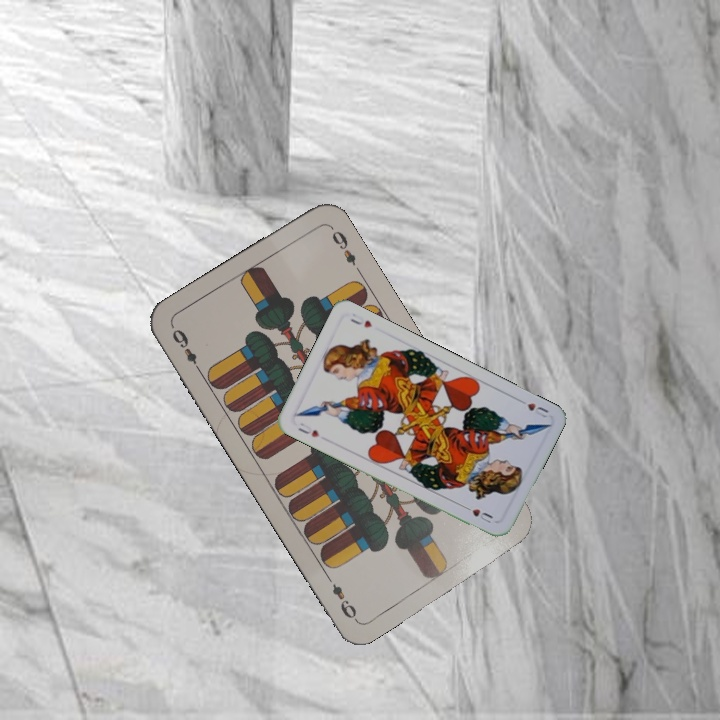E9: (168, 324, 205, 376)
HU: (514, 395, 552, 420), (293, 418, 322, 440)
